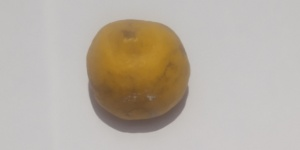BAD: (87, 17, 196, 124)
